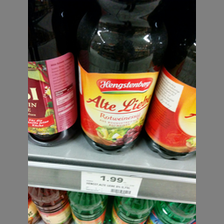vinegar: (75, 1, 163, 154)
